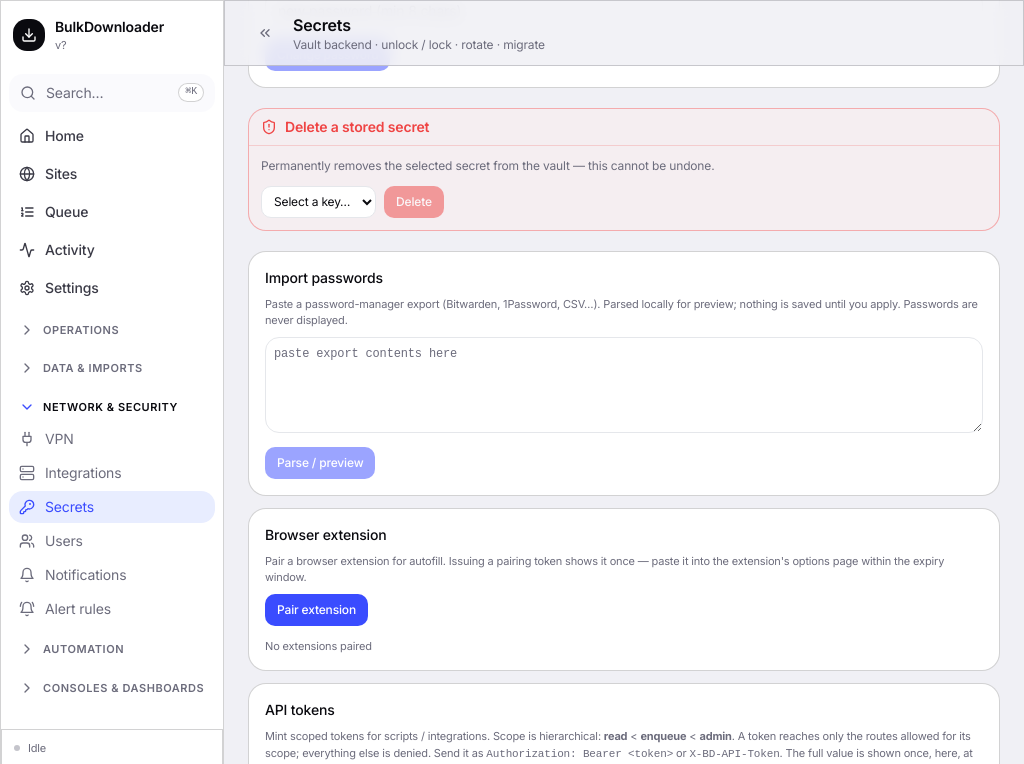
Test: F12 — status-dependent actions wait for a status that was actually read › control: with a read, unlocked status both are enabled
(page scrolled)
Type "x,y,z" into the text box named "Password export contents" at (624, 384), box 265,336 -> 983,432
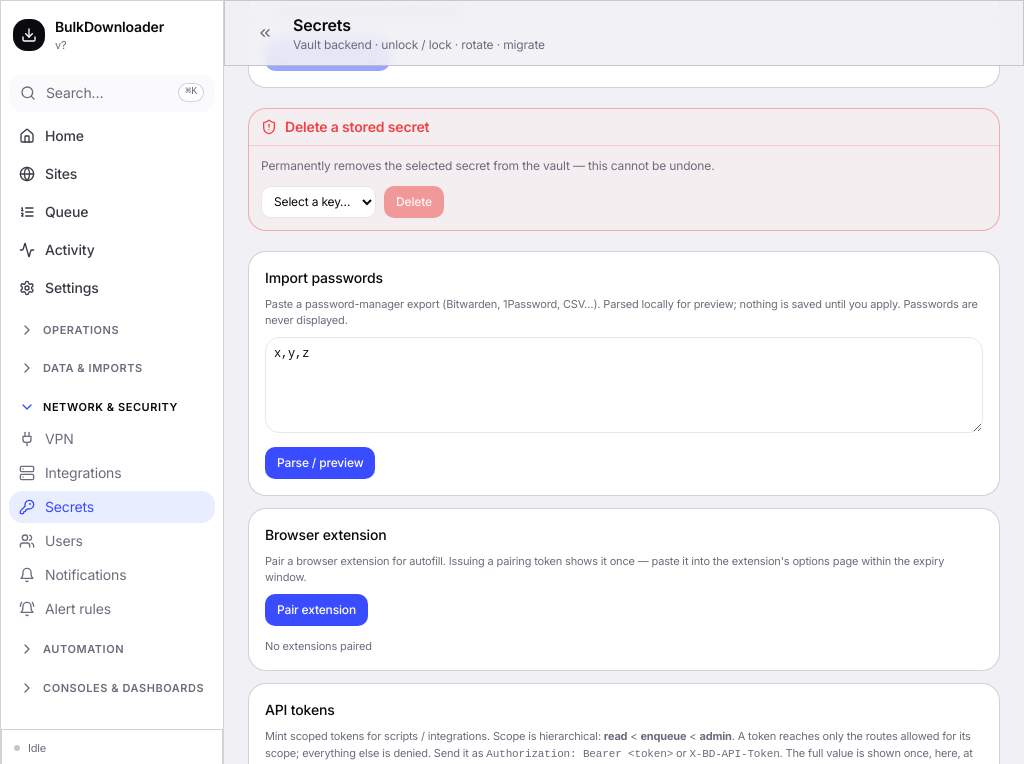
Click the button "Parse / preview" at (320, 462), box 265,446 -> 375,478
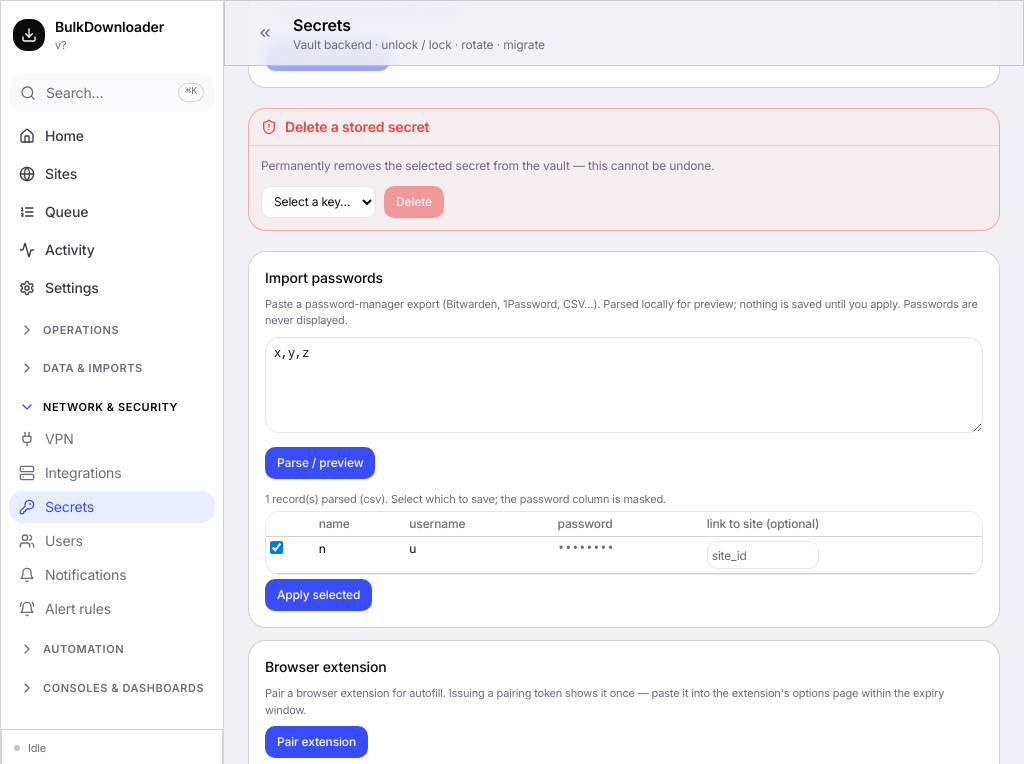
Expected: the button "Pair extension" is enabled, 265,726 -> 368,758
Expected: the button "Apply selected" is enabled, 265,579 -> 372,611
